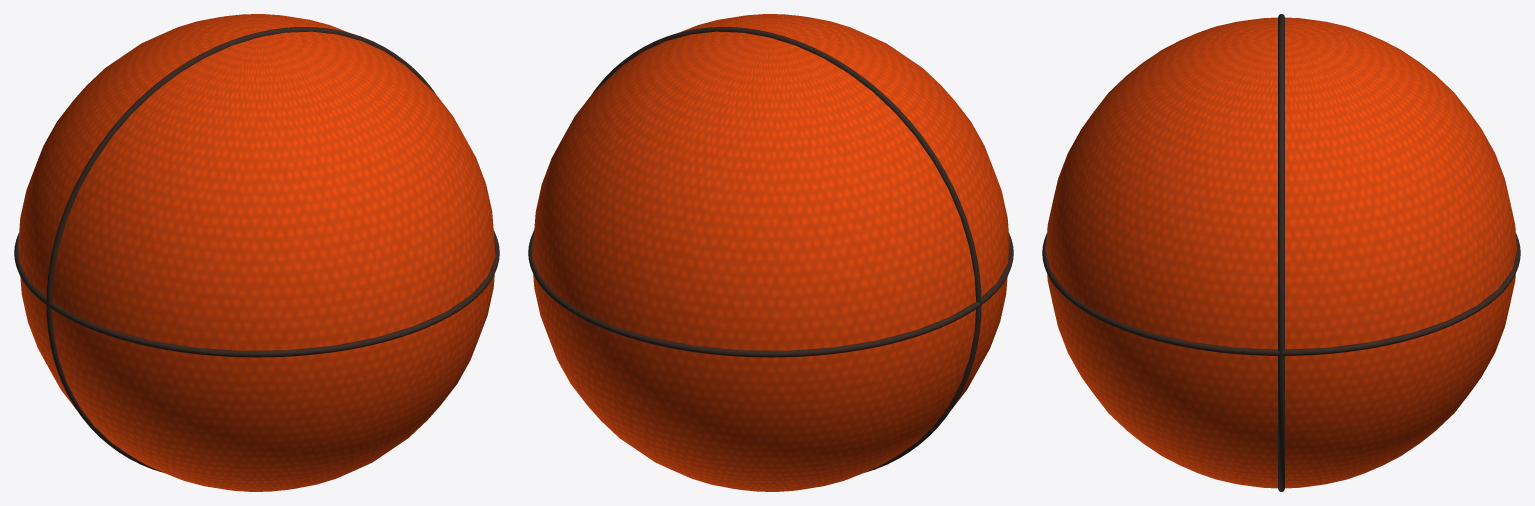
Rendered from asset.glb.
3 renders of one model, left to right at view 1: azimuth 30°, elevation 25°; view 2: azimuth 150°, elevation 25°; view 3: azimuth 270°, elevation 25°, orthographic.
Parts seen in each view (by area): view 1: Basketball | orange pebbled shell, Curved cross seam, Equatorial seam; view 2: Basketball | orange pebbled shell, Curved cross seam, Equatorial seam; view 3: Basketball | orange pebbled shell, Equatorial seam, Curved cross seam.
Part boxes in pixels (x1,y1,x2,y2): Basketball | orange pebbled shell: (18,14,495,491); Curved cross seam: (46,27,436,472); Equatorial seam: (14,230,499,357); Basketball | orange pebbled shell: (532,14,1009,491); Curved cross seam: (591,27,981,472); Equatorial seam: (528,230,1013,357); Basketball | orange pebbled shell: (1046,17,1516,488); Equatorial seam: (1042,233,1520,355); Curved cross seam: (1278,14,1284,491).
Size of the model in its own units: 0.24 by 0.2398 by 0.24.
Materials: 2 (1 with a texture image).
